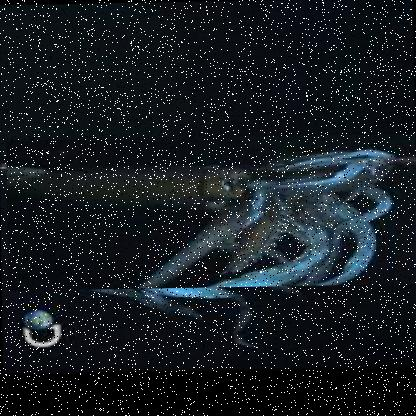colossal_squid: (4, 131, 415, 291)
